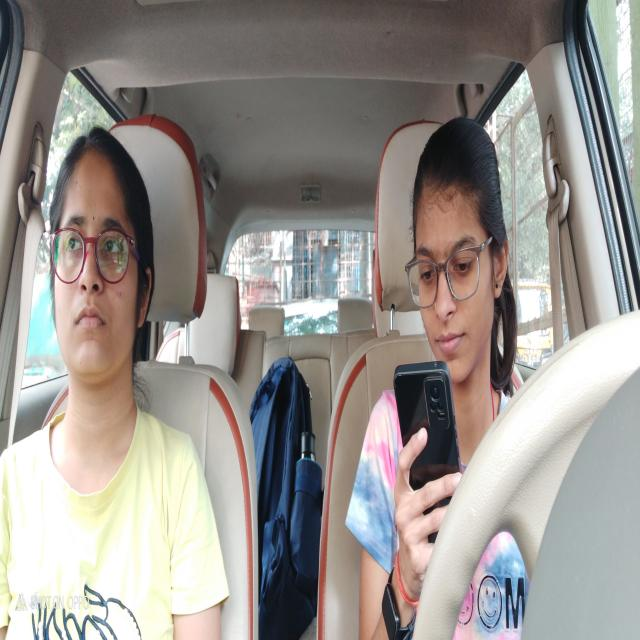mobile: (390, 354, 465, 554)
person: (44, 122, 159, 428), (405, 112, 514, 398)
